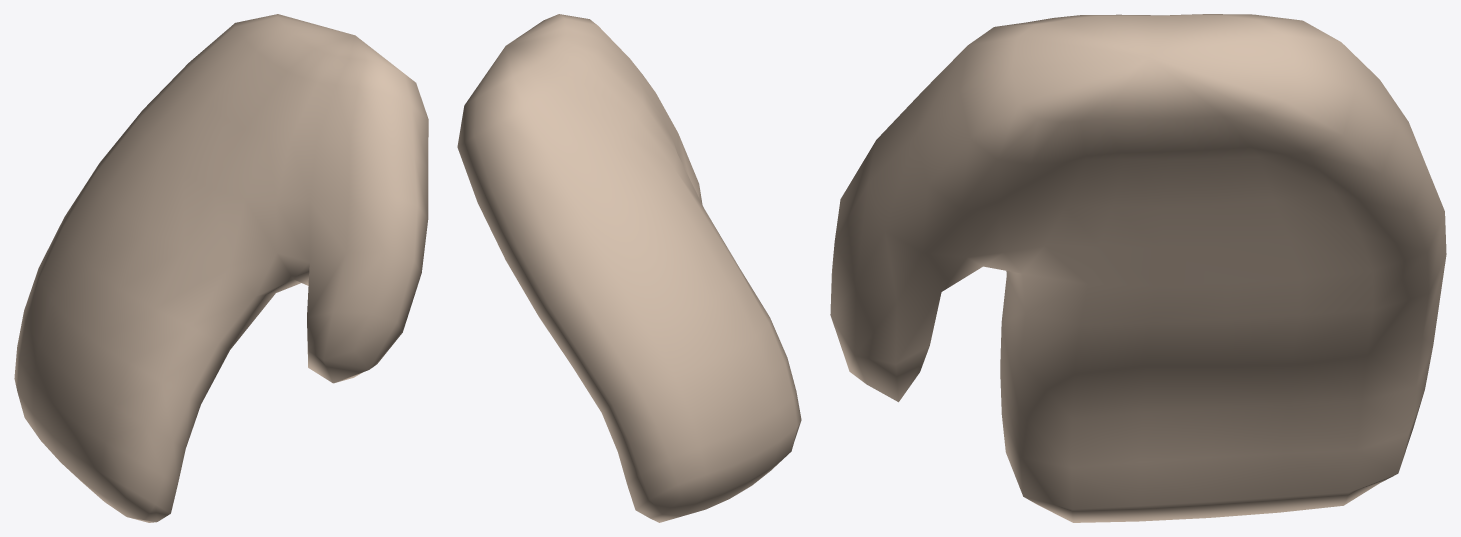
The model's file is LeftHand.fbx.
3 renders of one model, left to right at view 1: azimuth 30°, elevation 25°; view 2: azimuth 150°, elevation 25°; view 3: azimuth 270°, elevation 25°, orthographic. The views are drawn at different scales.
Parts seen in each view (by area): view 1: polySurface57; view 2: polySurface57; view 3: polySurface57.
Part boxes in pixels (x1=…): polySurface57: x1=14, y1=14, x2=428, y2=522; polySurface57: x1=457, y1=14, x2=801, y2=522; polySurface57: x1=830, y1=14, x2=1446, y2=522.
Bounding box in the file's own units: 26.7 × 35.38 × 30.24.
